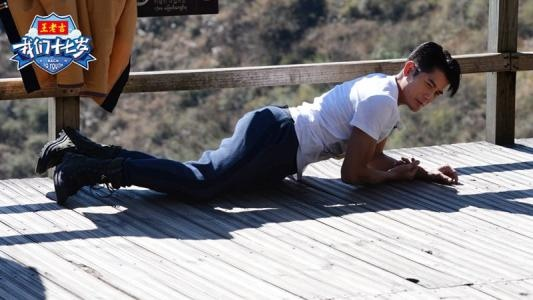falling: (36, 31, 478, 209)
